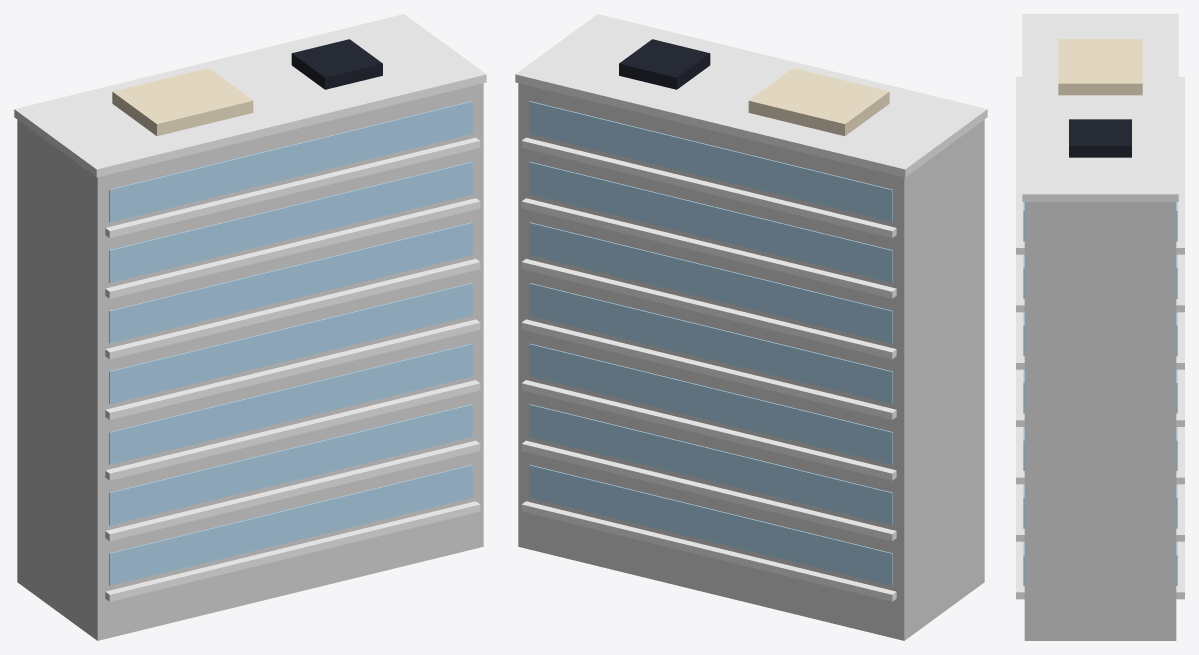
The model's file is skyline-slab.glb.
3 views of the same model, side by side, from view 1: azimuth 30°, elevation 25°; view 2: azimuth 150°, elevation 25°; view 3: azimuth 270°, elevation 25° (orthographic). The views are drawn at different scales.
Visible parts, largest first — view 1: skyline-slab, COL_body; view 2: skyline-slab, COL_body; view 3: COL_body, skyline-slab.
Boxes of the visible parts, x1,y1,x2,y2 form: skyline-slab: (14, 14, 486, 601); COL_body: (17, 83, 483, 640); skyline-slab: (515, 14, 987, 601); COL_body: (518, 83, 984, 640); COL_body: (1024, 202, 1176, 640); skyline-slab: (1016, 14, 1184, 599).
Bounding box in the file's own units: 20.2 × 24 × 8.
